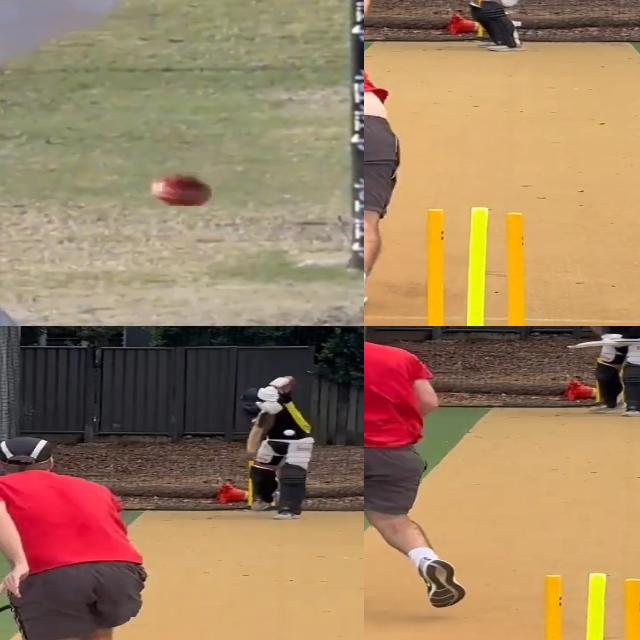Cricket ball: (148, 170, 215, 206), (284, 428, 295, 438)
Stumps: (407, 207, 542, 326), (520, 570, 640, 640)
